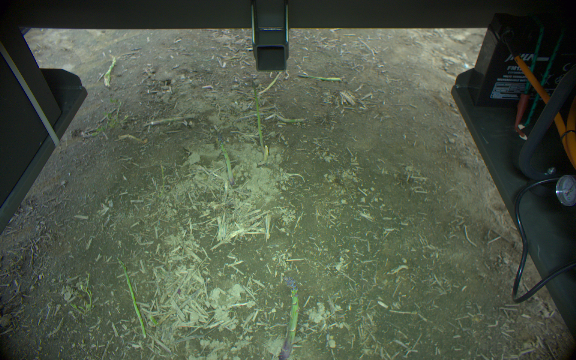aspa: (115, 258, 148, 341), (278, 278, 300, 360), (214, 131, 236, 187), (252, 80, 264, 152), (103, 53, 118, 88), (296, 72, 342, 83), (262, 113, 307, 124)
